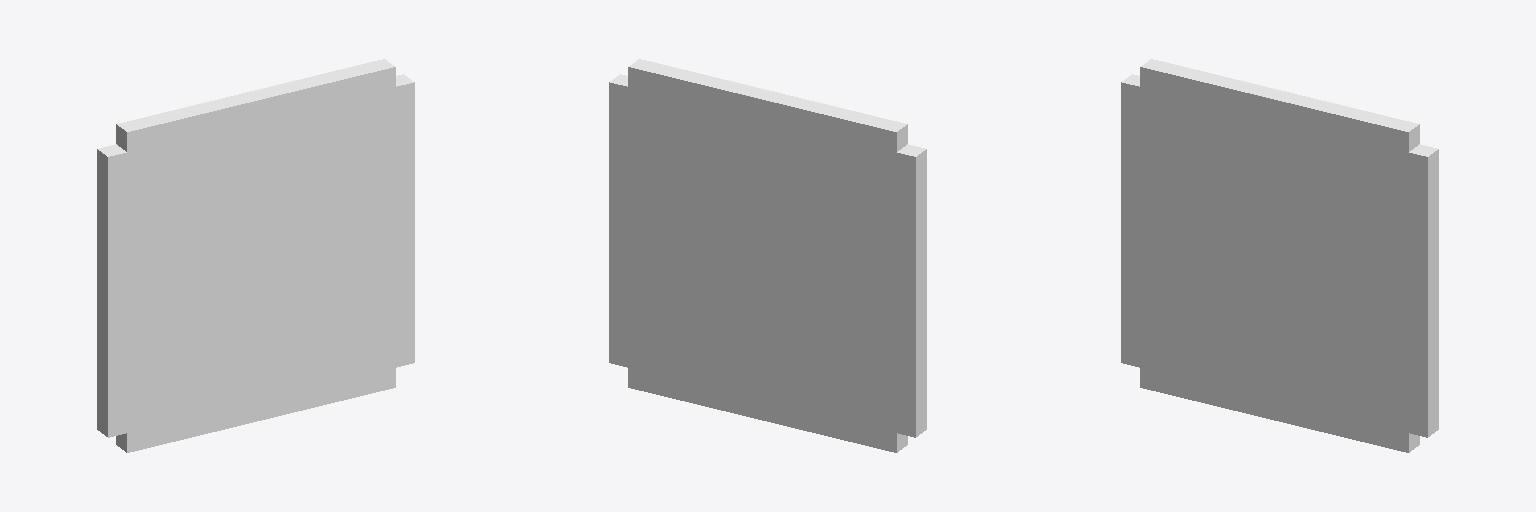
Rendered from informationPanel.obj.
The picture shows the model from 3 angles: view 1: azimuth 30°, elevation 25°; view 2: azimuth 150°, elevation 25°; view 3: azimuth 330°, elevation 25°; orthographic projection.
Parts seen in each view (by area): view 1: object 1; view 2: object 1; view 3: object 1.
Part boxes in pixels (bbox=[...]): object 1: bbox=[97, 59, 414, 452]; object 1: bbox=[609, 59, 926, 452]; object 1: bbox=[1121, 59, 1438, 452].
Bounding box in the file's own units: 1.6 × 1.6 × 0.1.